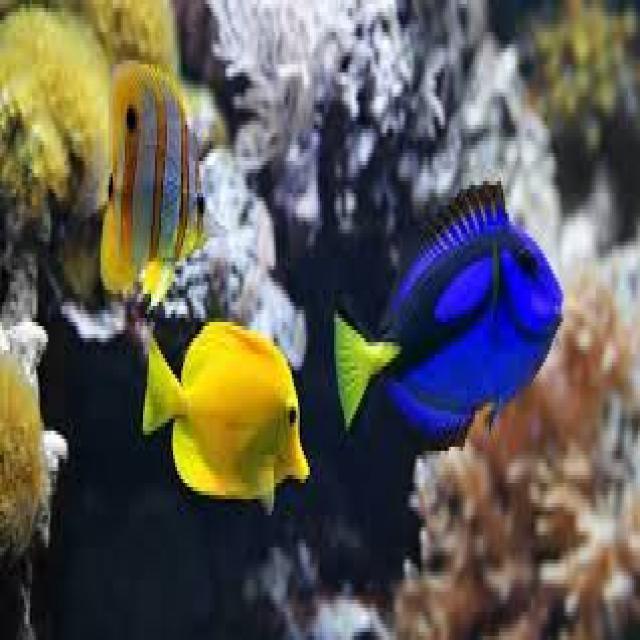BlueTang: (338, 184, 568, 442)
ButterflyFish: (147, 324, 310, 505), (105, 59, 207, 293)
